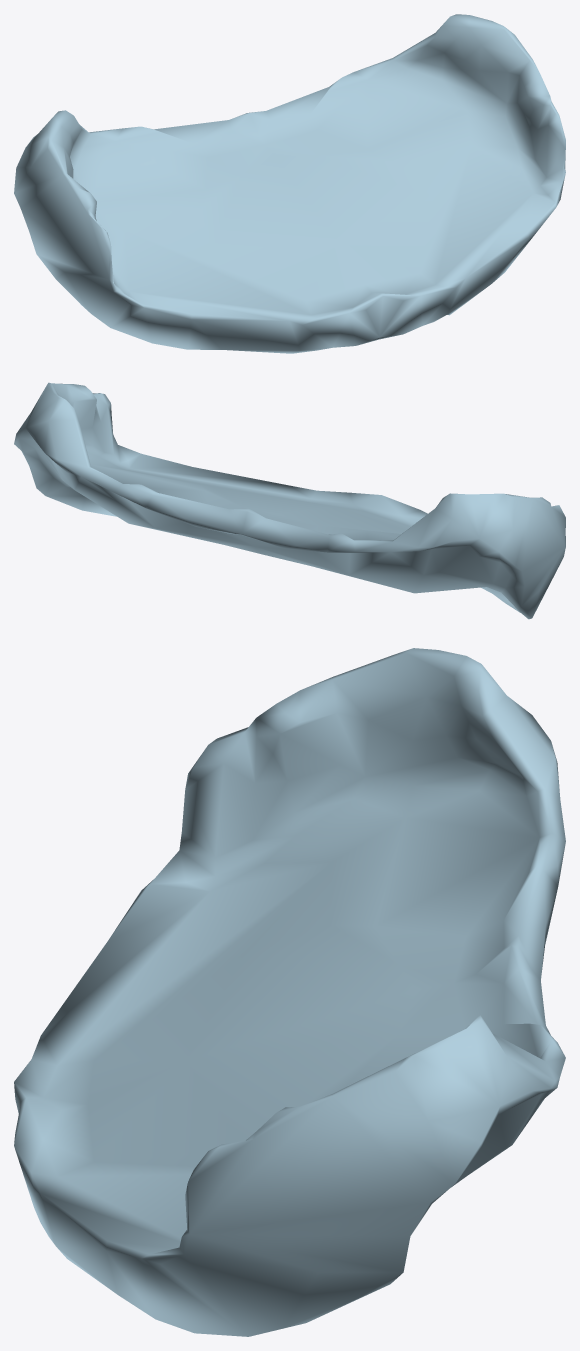
Rendered from articulacoes-intervertebral-disc-c7-t1.glb.
The picture shows the model from 3 angles, top to bottom: view 1: azimuth 30°, elevation 25°; view 2: azimuth 150°, elevation 25°; view 3: azimuth 270°, elevation 25°; orthographic projection. The views are drawn at different scales.
Parts seen in each view (by area): view 1: Intervertebral disc C7-T1; view 2: Intervertebral disc C7-T1; view 3: Intervertebral disc C7-T1.
Part boxes in pixels (<box>): Intervertebral disc C7-T1: <box>14,14,565,353</box>; Intervertebral disc C7-T1: <box>14,382,565,619</box>; Intervertebral disc C7-T1: <box>14,648,565,1336</box>.
Bounding box in the file's own units: 0.034 × 0.0122 × 0.0177.
